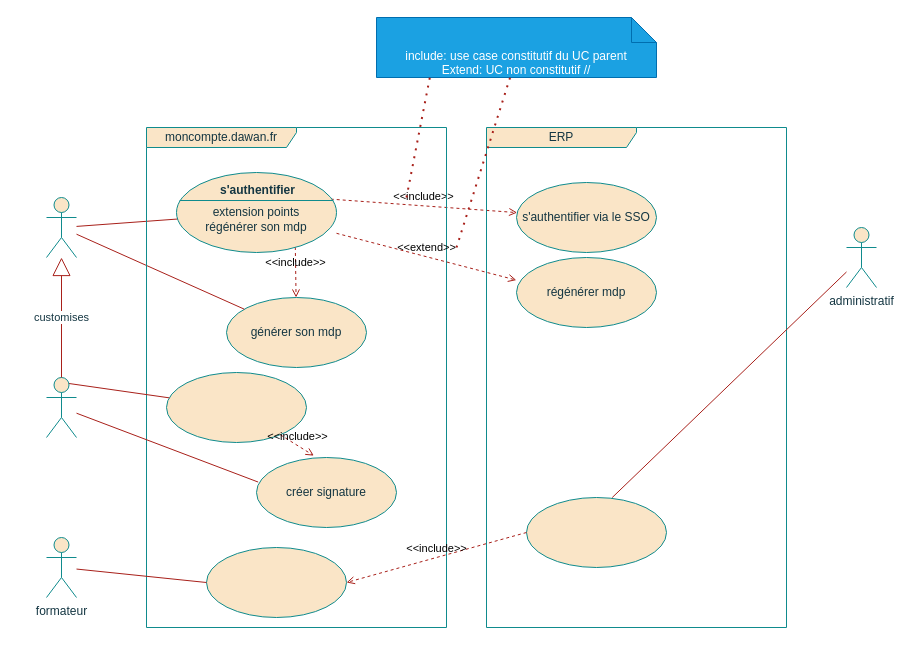
The diagram is 911 pixels wide and 645 high, and some of its shapes have lost their labels. The shapes that lost their labels are listed below. From the top down, each one's centre as x and y in pixels, then its label:
(x=61, y=227): participant
(x=61, y=407): participant loggé
(x=236, y=407): éditer présence
(x=596, y=532): contacter absent
(x=276, y=582): déclarer absence
